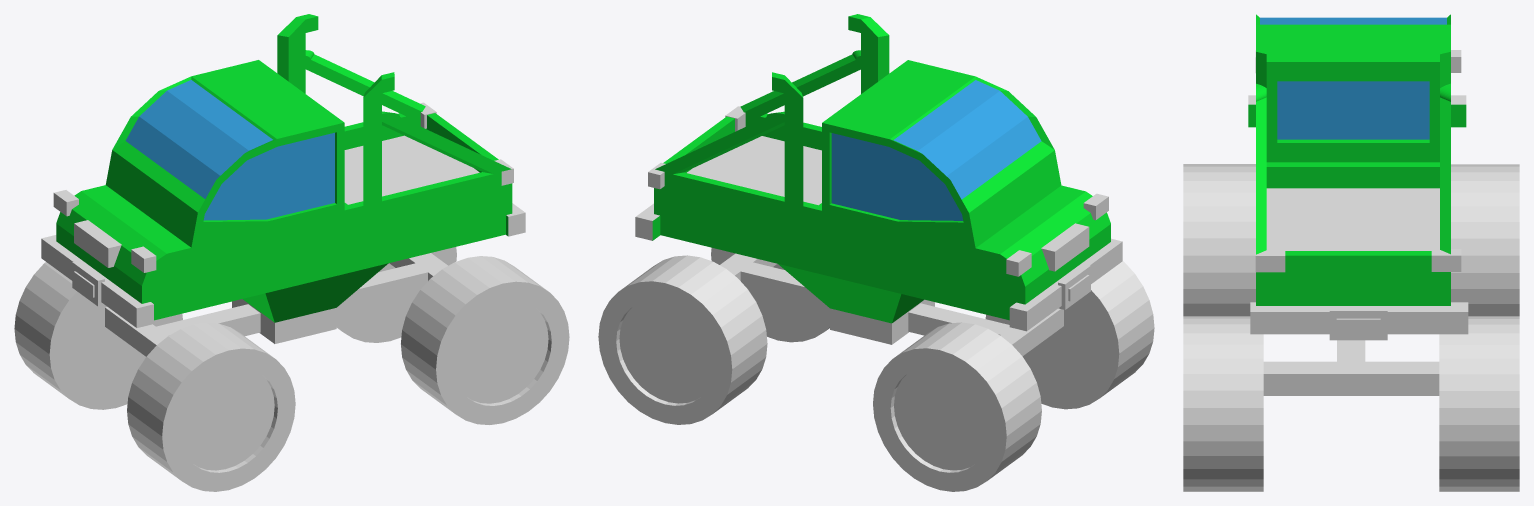
File: monstertruck.fbx
3 views of the same model, side by side, from view 1: azimuth 30°, elevation 25°; view 2: azimuth 150°, elevation 25°; view 3: azimuth 270°, elevation 25° (orthographic). The views are drawn at different scales.
Parts seen in each view (by area): view 1: Cube.002, Cylinder, Cylinder.001, Cylinder.003, Cylinder.002; view 2: Cube.002, Cylinder.002, Cylinder.003, Cylinder, Cylinder.001; view 3: Cube.002, Cylinder.001, Cylinder.002, Cylinder, Cylinder.003.
Part boxes in pixels (x1,y1,x2,y2): Cube.002: (41,14,525,356); Cylinder: (127,323,295,491); Cylinder.001: (401,256,569,424); Cylinder.003: (14,262,182,409); Cylinder.002: (336,247,456,342); Cube.002: (635,14,1122,356); Cylinder.002: (598,255,767,424); Cylinder.003: (873,322,1041,491); Cylinder: (985,261,1154,409); Cylinder.001: (711,248,829,342); Cube.002: (1248,14,1468,395); Cylinder.001: (1183,316,1263,491); Cylinder.002: (1439,316,1519,491); Cylinder: (1183,164,1255,316); Cylinder.003: (1451,164,1519,316).
Bounding box in the file's own units: 552 × 441 × 344.
